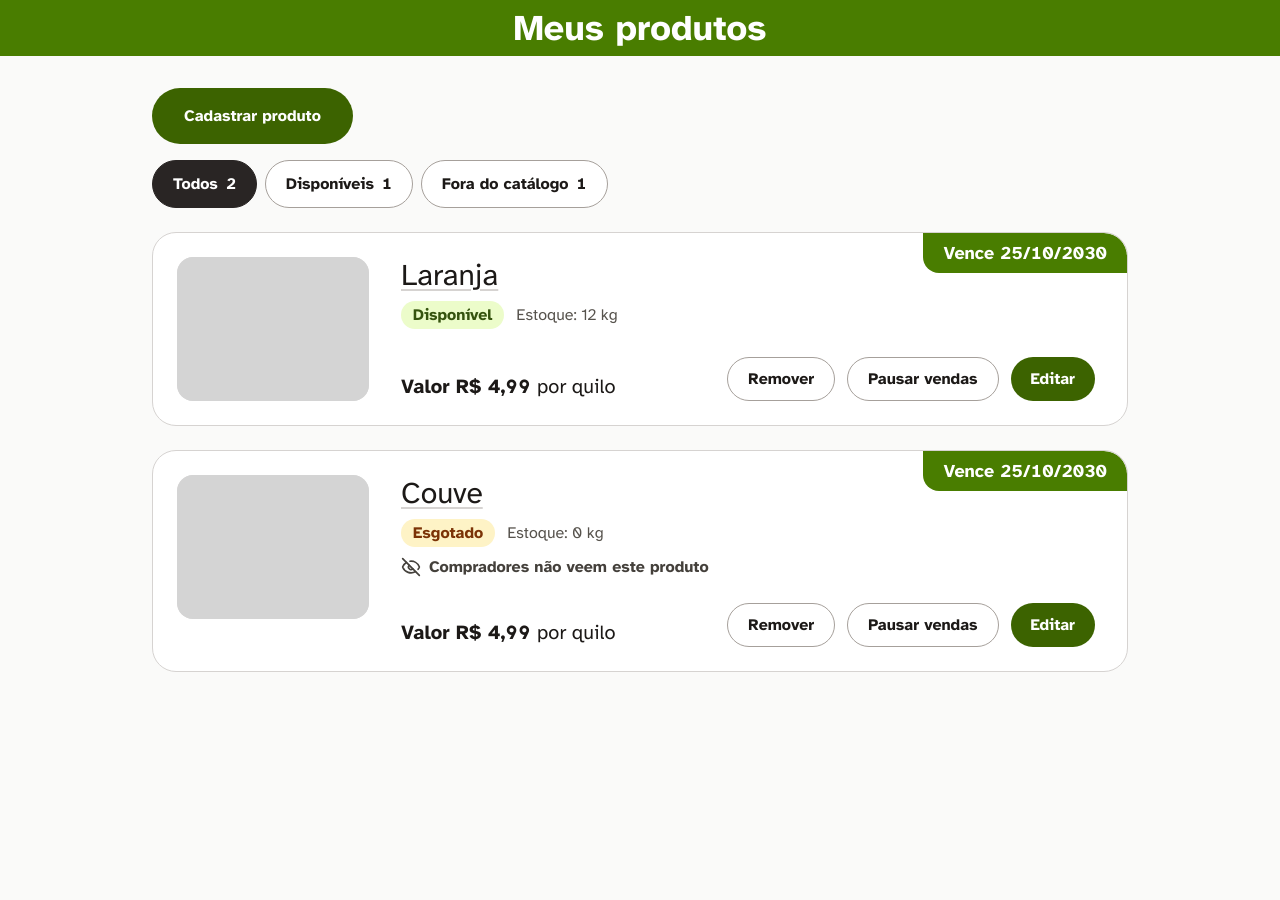
MyProducts, pausing and the tabs › asks the API for the products of each tab
Click the button "Fora do catálogo 1". click: (514, 184)
box: x1=421 y1=160 x2=608 y2=208
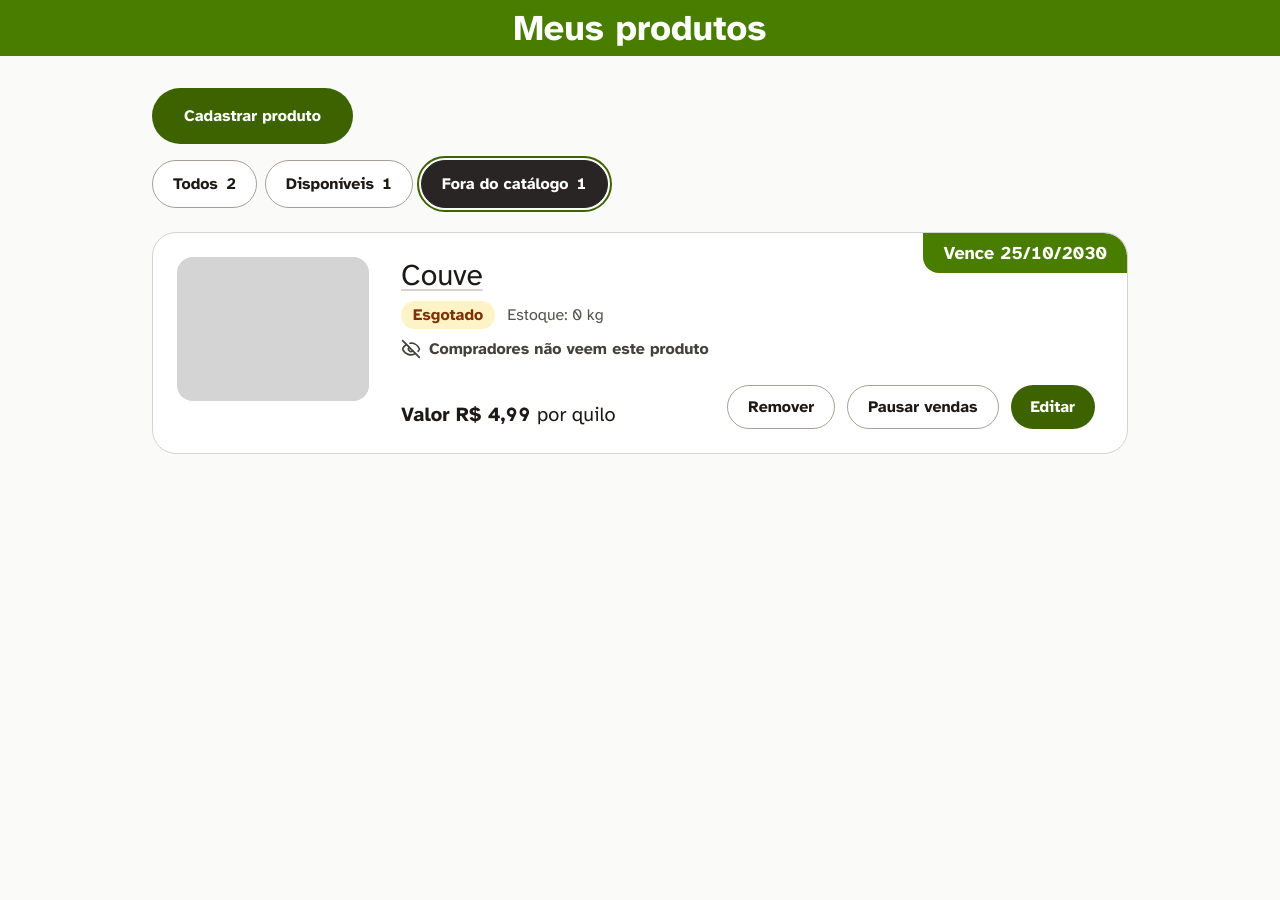
Expected: the heading "Couve" is shown, x1=401 y1=256 x2=483 y2=294
Result: the link "Laranja" is gone
Click the button "Disponíveis 1". click: (339, 184)
box: x1=265 y1=160 x2=413 y2=208
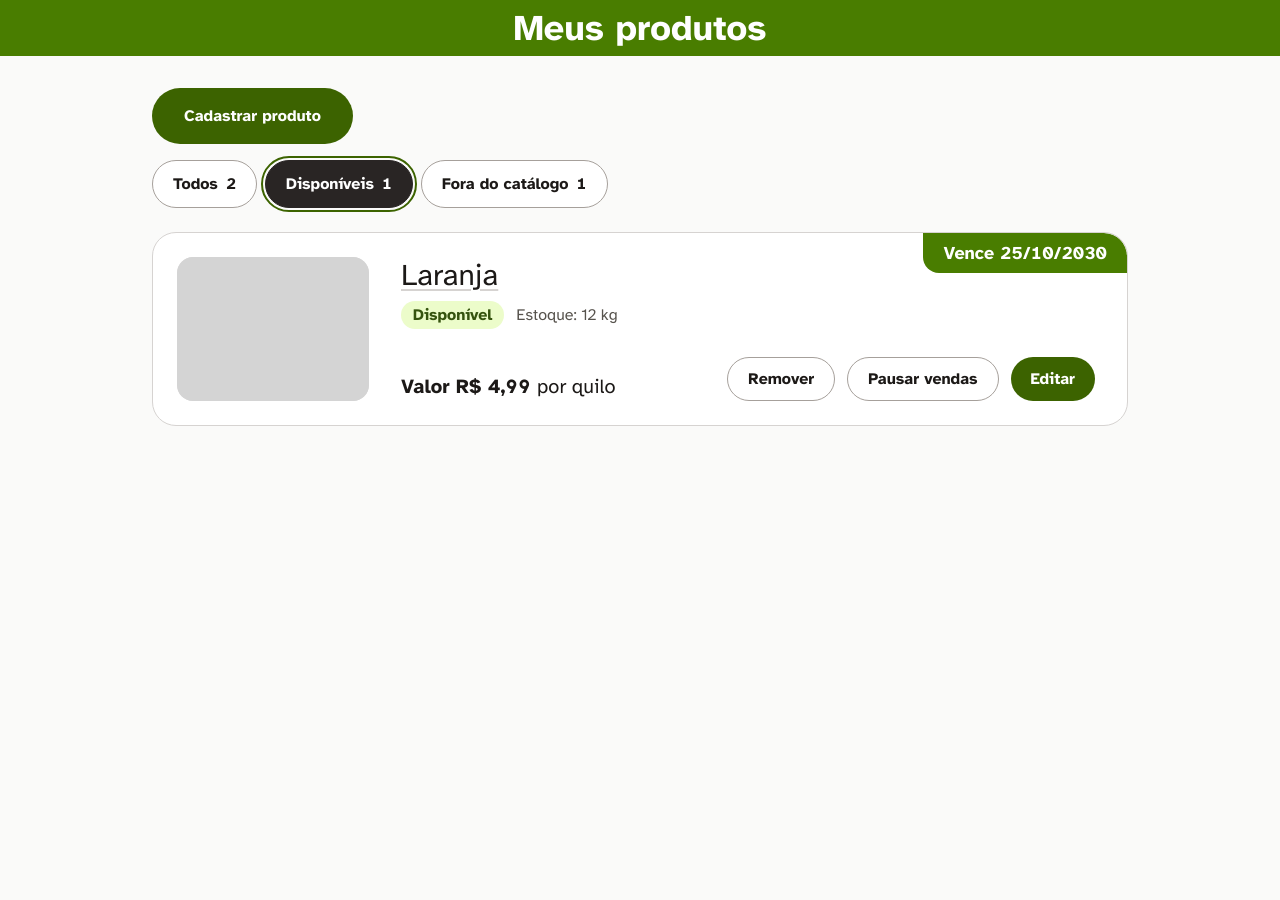
Result: the heading "Laranja" is shown at x1=401 y1=256 x2=498 y2=294
Result: the link "Couve" is gone
